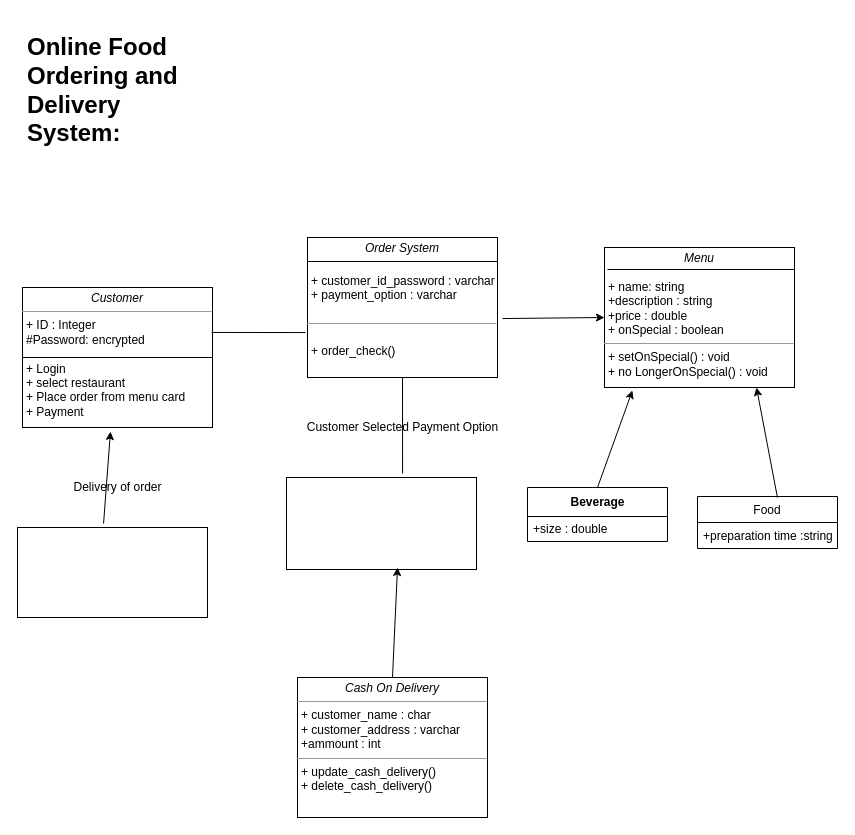
Image size: 855x835. Some labels were removed from this diagram. Each missing label, with the centre of its shape:
Payment + Amount + Payment Option: the point at 381,523
Restaurent + Check the order + Delivered the order: the point at 112,572
